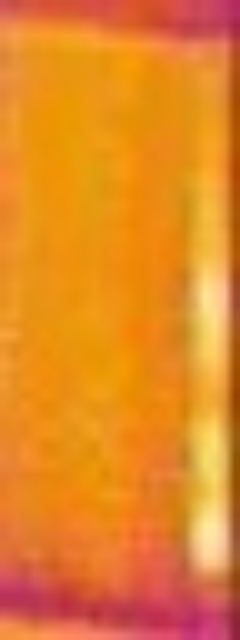Diode: (180, 178, 240, 597)
